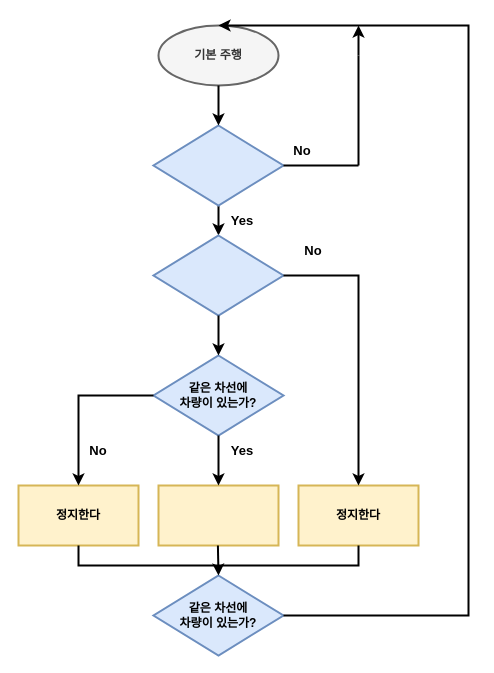
The diagram is 494 pixels wide and 673 high, and some of its shapes have lost their labels. Each missing label, with the centre of its shape:
전방에 특이사항이 있는가?: pixel 218 165
차량이 없는 쪽 차선 으로 변경 후 주행한다: pixel 218 515
후방에 차량이 있는가?: pixel 218 275
